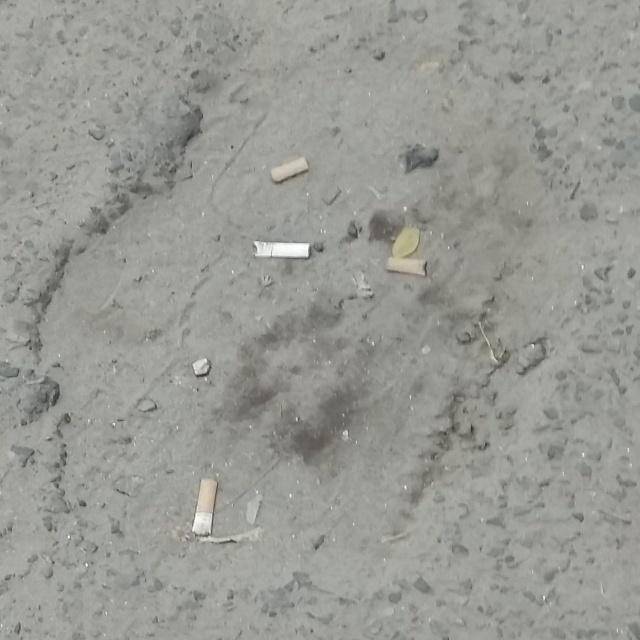Surface Erosion: (40, 6, 627, 578)
